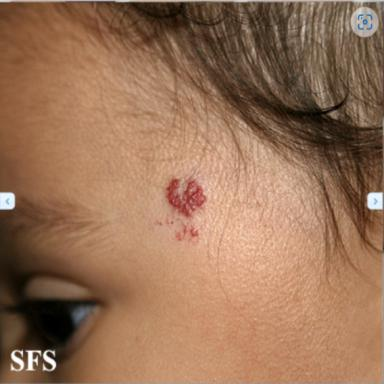Hemangiome: (167, 179, 206, 216)
